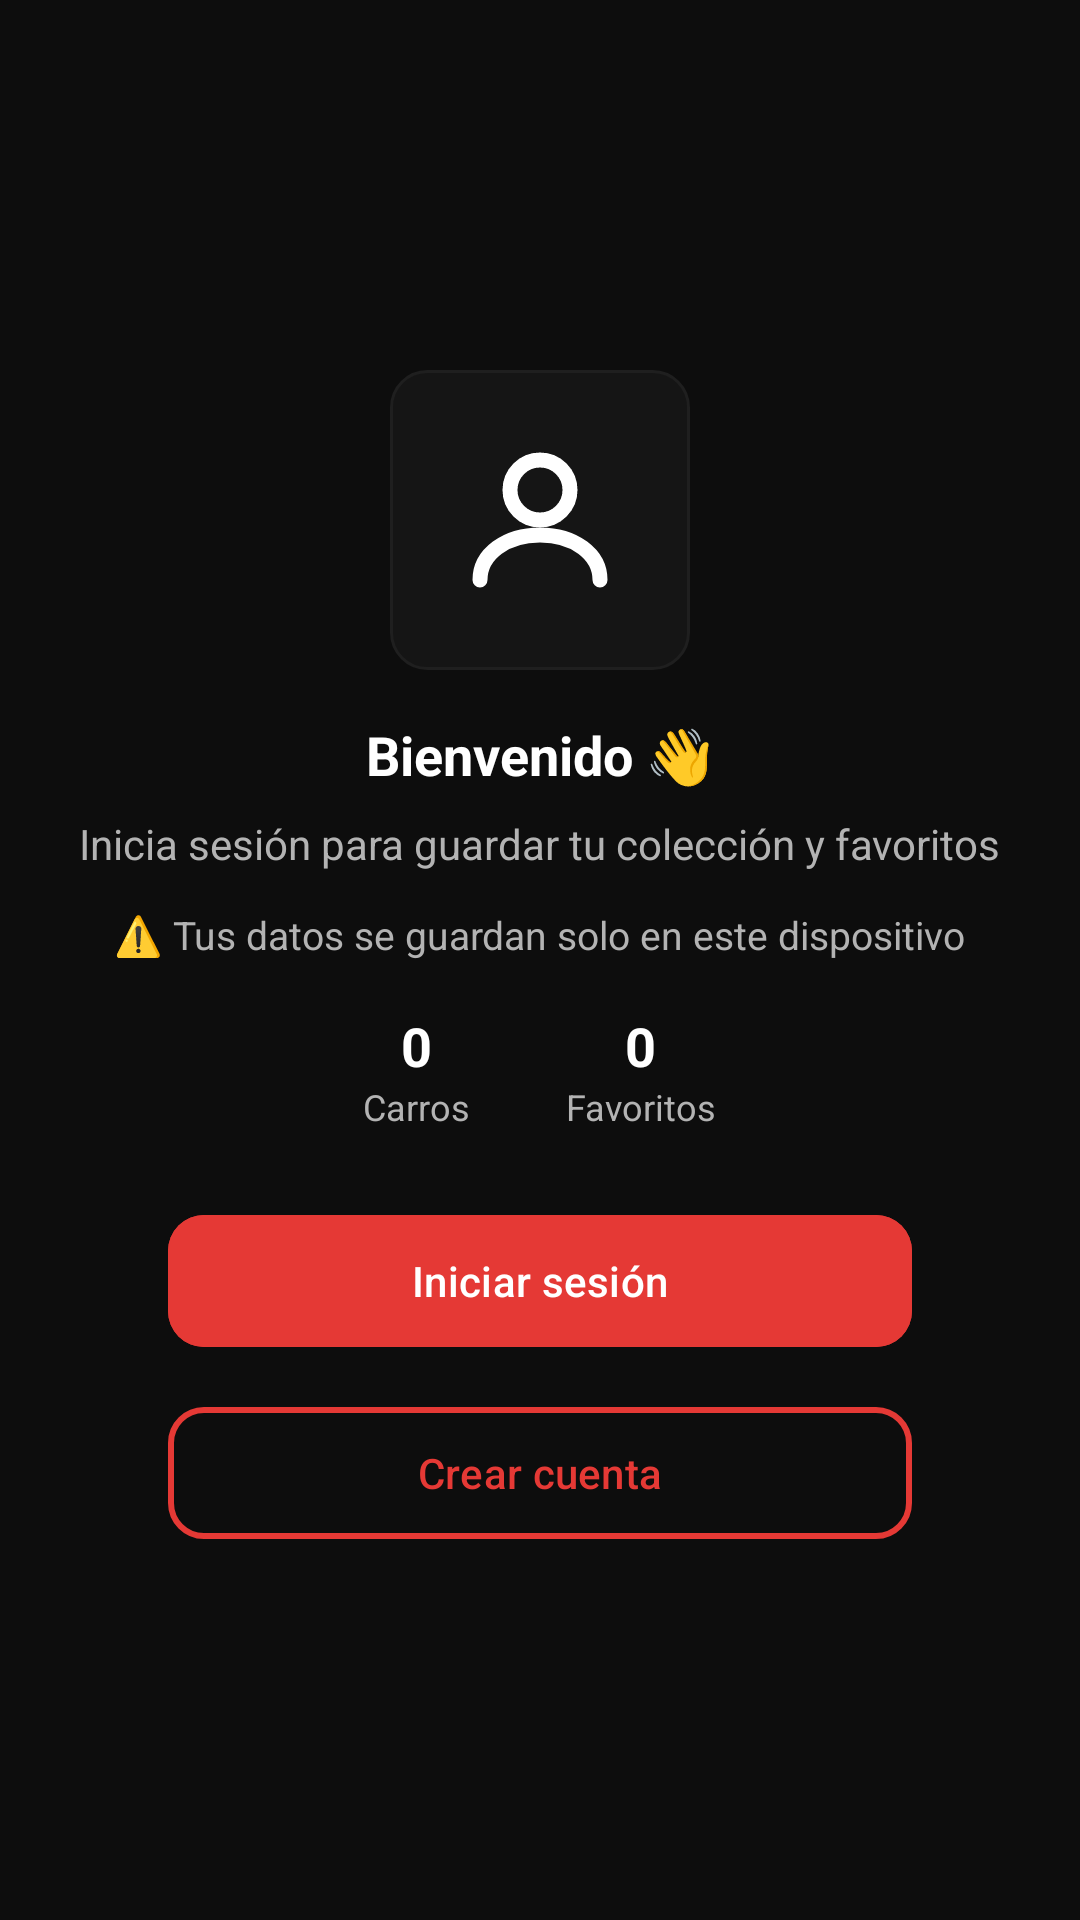

Icons on this 1080w x 1920h Android screen, each with the point to tap as point (x, y):
profile: point (540, 520)
